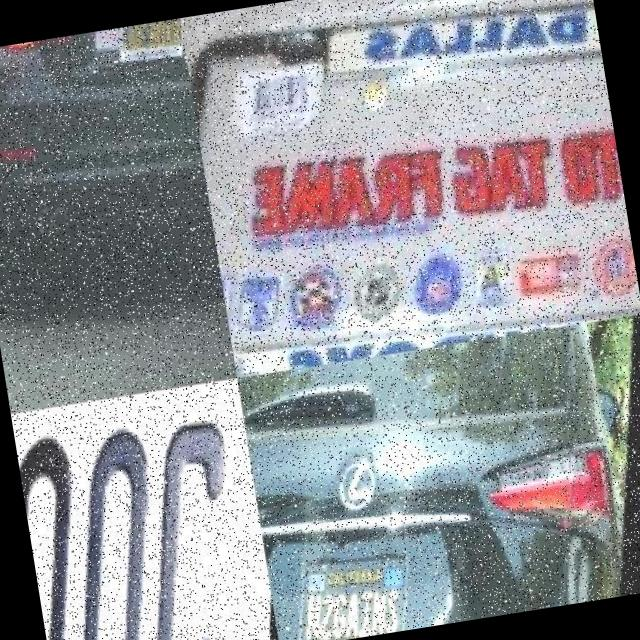LicensePlate: (194, 42, 637, 343), (11, 378, 275, 640), (283, 534, 425, 640), (115, 18, 188, 79)
